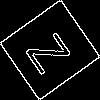Z: (25, 24, 79, 76)
